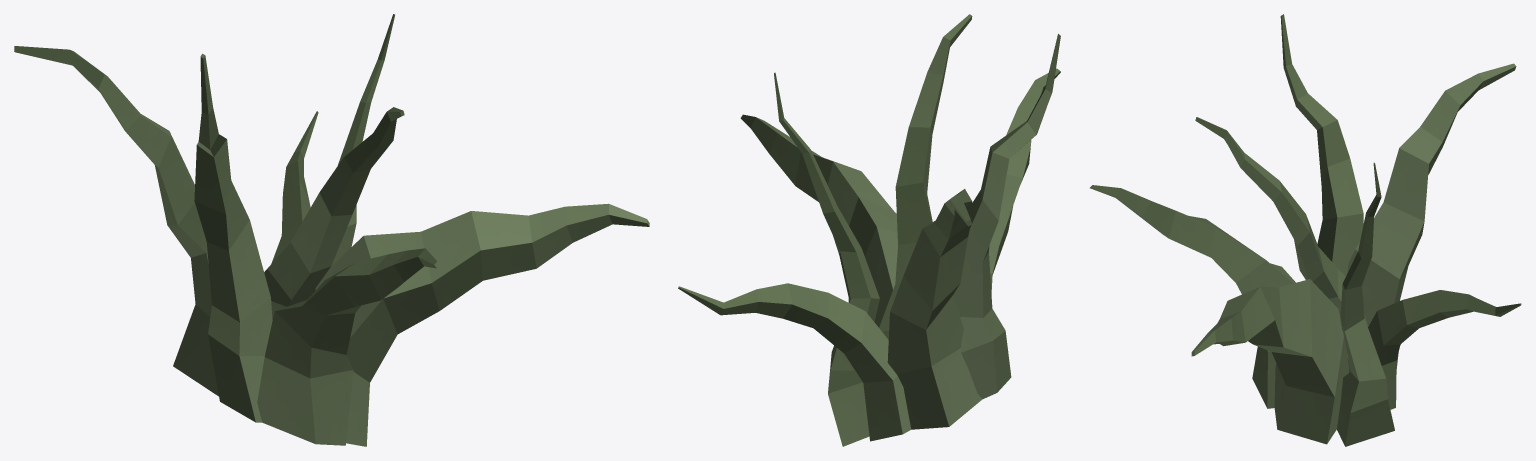
The model's file is grass_green_5.glb.
The picture shows the model from 3 angles, left to right: view 1: azimuth 30°, elevation 25°; view 2: azimuth 150°, elevation 25°; view 3: azimuth 270°, elevation 25°; orthographic projection. The views are drawn at different scales.
Visible parts, largest first — view 1: grass_green_5; view 2: grass_green_5; view 3: grass_green_5.
Boxes of the visible parts, x1,y1,x2,y2 form: grass_green_5: [14, 14, 649, 446]; grass_green_5: [678, 14, 1060, 446]; grass_green_5: [1090, 14, 1521, 446].
Bounding box in the file's own units: 0.6657 × 0.6337 × 0.6893.
1 material, 1 textured.
